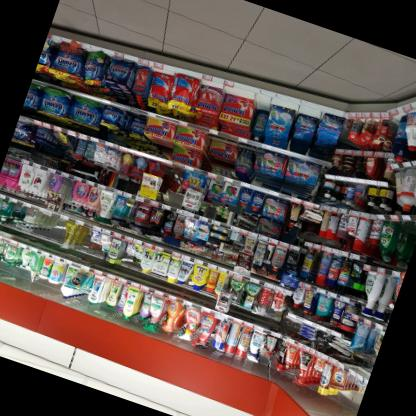empty_space: (226, 81, 256, 103), (346, 378, 368, 405), (152, 60, 179, 80), (255, 89, 274, 116), (298, 103, 323, 121), (274, 96, 298, 113), (53, 217, 66, 239), (44, 213, 58, 230)
